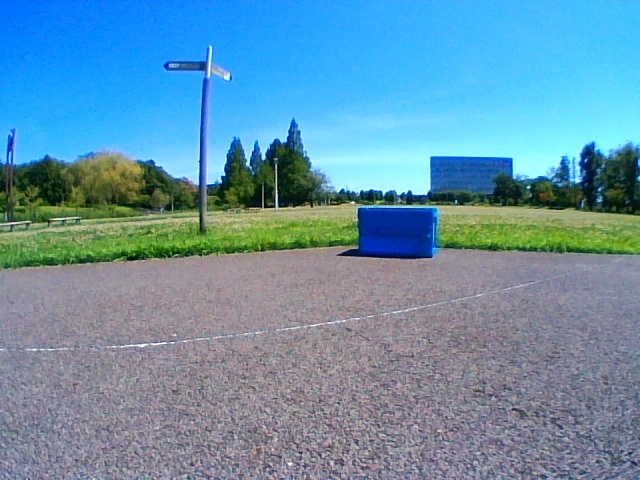blue_box: (358, 206, 436, 259)
